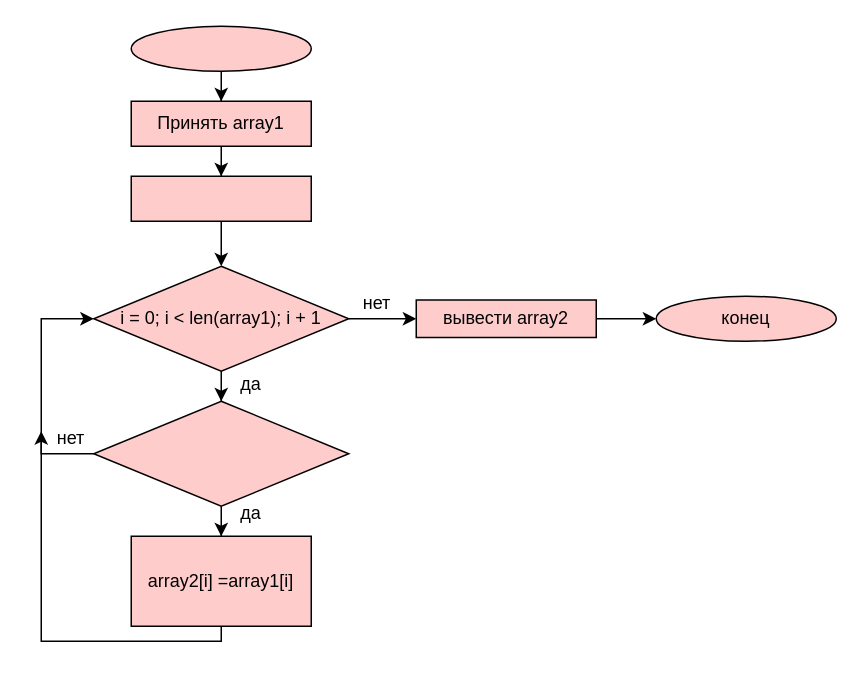
Image size: 863x680. Some labels were removed from this diagram. The box of each missing label's shape, as (x1, y1, x2, y2) in pixels:
len(array1[i]) < 4: (92, 400, 349, 506)
Создать array2: (130, 175, 311, 221)
СТАРТ: (130, 25, 311, 71)
